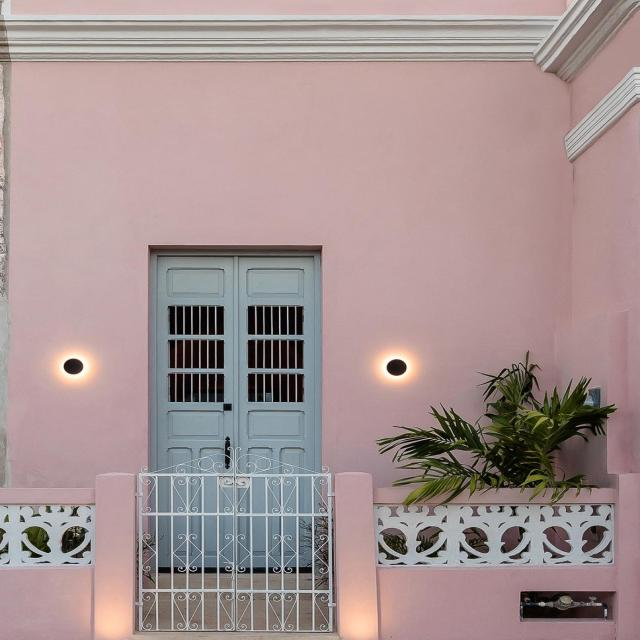door: (154, 252, 323, 568)
